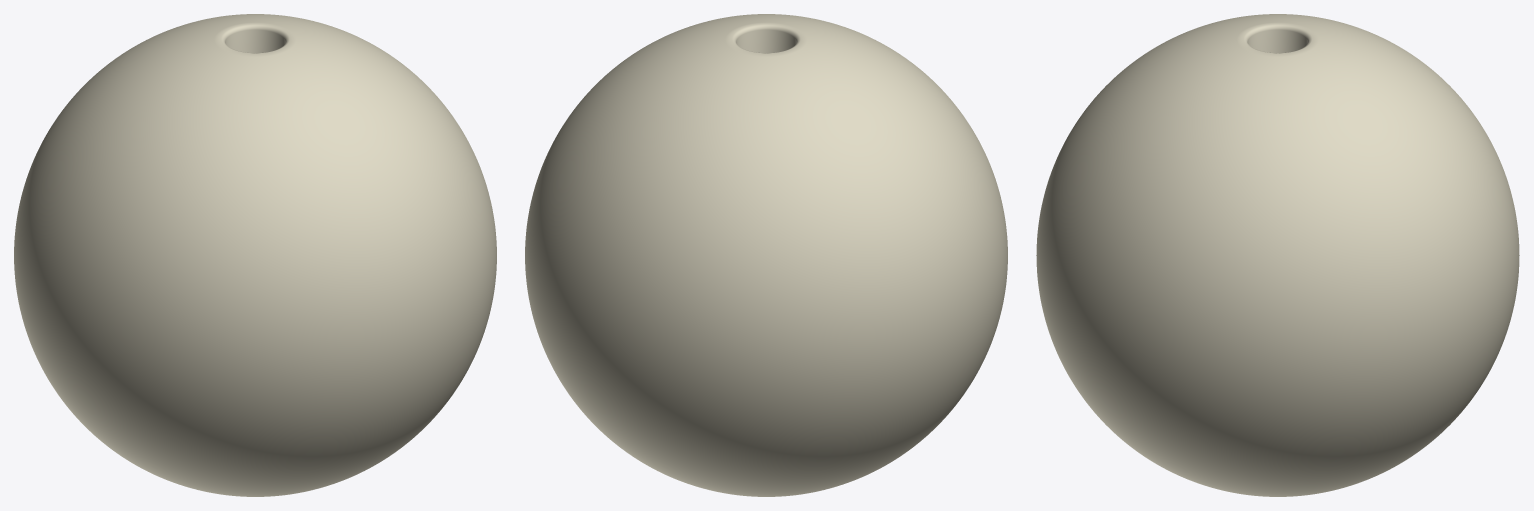
File: golden-rutilated-quartz-clear-8mm.glb
3 views of the same model, side by side, from view 1: azimuth 30°, elevation 25°; view 2: azimuth 150°, elevation 25°; view 3: azimuth 270°, elevation 25° (orthographic).
Visible parts, largest first — view 1: 冰透底金发晶; view 2: 冰透底金发晶; view 3: 冰透底金发晶.
Part boxes in pixels (x1,y1,x2,y2): 冰透底金发晶: (14,14,496,496); 冰透底金发晶: (525,14,1007,496); 冰透底金发晶: (1036,14,1519,496).
Size of the model in its own units: 0.008 by 0.00792 by 0.008.
